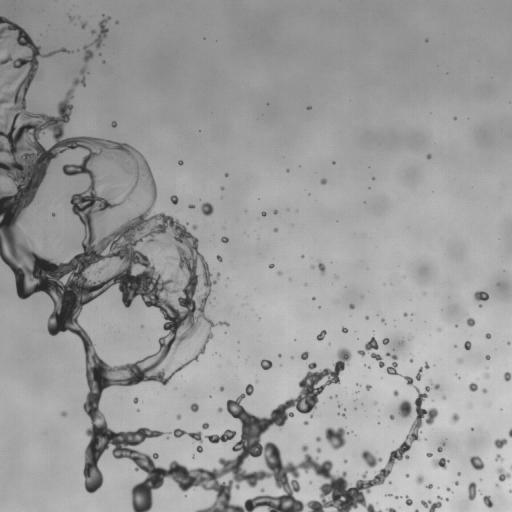droplet: (358, 337, 384, 367), (325, 427, 347, 449), (361, 450, 381, 467), (421, 496, 441, 511), (399, 400, 411, 417), (468, 482, 479, 500), (470, 456, 484, 470), (432, 458, 448, 469), (497, 468, 510, 481), (201, 202, 213, 215), (83, 46, 93, 61), (494, 438, 507, 448), (474, 291, 488, 300), (260, 359, 272, 369), (483, 495, 492, 507), (317, 330, 326, 340), (73, 78, 85, 85), (170, 195, 178, 204), (469, 382, 477, 391), (190, 403, 198, 412), (451, 413, 459, 422), (318, 263, 325, 273), (464, 341, 471, 350), (504, 372, 511, 381), (405, 496, 412, 505), (467, 318, 474, 326), (301, 352, 308, 359), (416, 476, 423, 483), (382, 338, 389, 344), (196, 445, 202, 452), (495, 454, 502, 460), (202, 423, 208, 429), (221, 237, 228, 242), (217, 255, 222, 261), (393, 390, 398, 396), (133, 397, 138, 403), (302, 445, 307, 451), (437, 446, 442, 452), (321, 179, 326, 184), (342, 327, 347, 332), (485, 333, 490, 338), (366, 385, 371, 390), (434, 384, 439, 389), (61, 411, 66, 416), (316, 436, 321, 441), (80, 68, 84, 74), (112, 121, 116, 127), (426, 484, 432, 488), (189, 204, 194, 208), (349, 304, 354, 308), (485, 355, 490, 359), (457, 359, 462, 363), (218, 407, 222, 412), (389, 415, 394, 419), (427, 453, 432, 457), (81, 23, 85, 27), (427, 154, 431, 158), (192, 225, 196, 229), (269, 264, 273, 268), (482, 388, 486, 392), (176, 415, 180, 419), (262, 211, 265, 216), (446, 488, 451, 491), (178, 161, 182, 164), (274, 210, 277, 214), (484, 374, 488, 377), (342, 413, 345, 417), (304, 421, 308, 424), (317, 448, 320, 452), (69, 16, 72, 19), (91, 30, 94, 33), (15, 74, 18, 77), (52, 213, 55, 216), (274, 228, 277, 231), (381, 319, 384, 322), (220, 387, 223, 390), (406, 474, 409, 477), (445, 498, 448, 501), (414, 509, 418, 511), (308, 106, 310, 109), (225, 174, 228, 176), (312, 297, 315, 299), (479, 304, 481, 307), (404, 313, 406, 316), (366, 316, 368, 319), (507, 342, 510, 344), (278, 354, 281, 356), (410, 359, 412, 362), (344, 460, 347, 462), (457, 473, 460, 475), (455, 482, 458, 484), (261, 489, 264, 491), (387, 494, 390, 496), (278, 272, 280, 274), (400, 342, 402, 344), (495, 484, 497, 486), (395, 496, 397, 498)
ligament: (0, 16, 437, 511), (94, 17, 109, 47), (205, 429, 236, 443), (173, 428, 203, 442), (386, 353, 399, 375), (415, 363, 428, 380), (97, 266, 105, 272), (386, 507, 396, 511), (508, 429, 511, 437), (510, 489, 511, 492)
